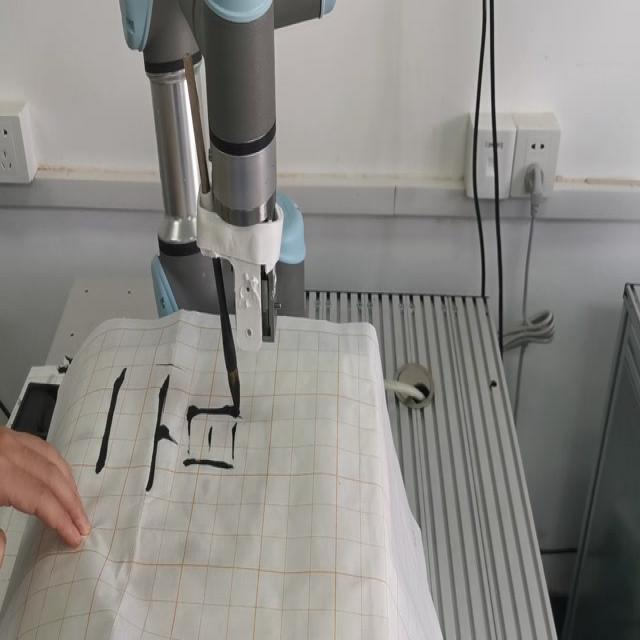head: (225, 372, 247, 412)
writing-brush: (180, 49, 247, 412)
